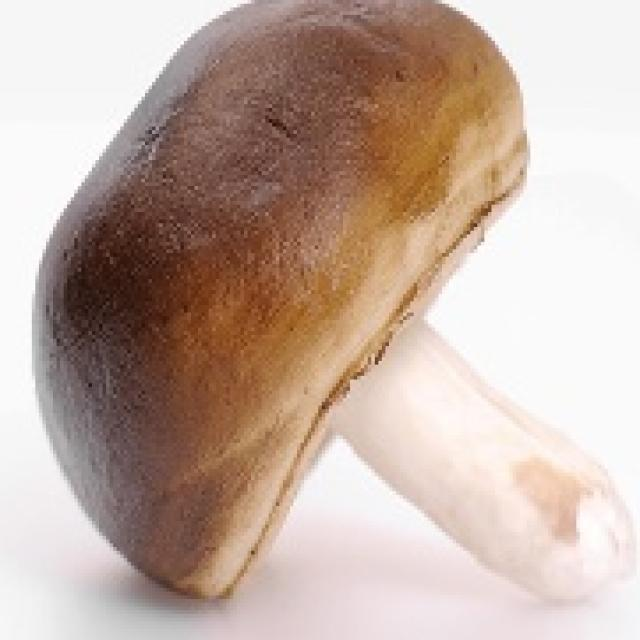mushroom: (28, 0, 639, 621)
